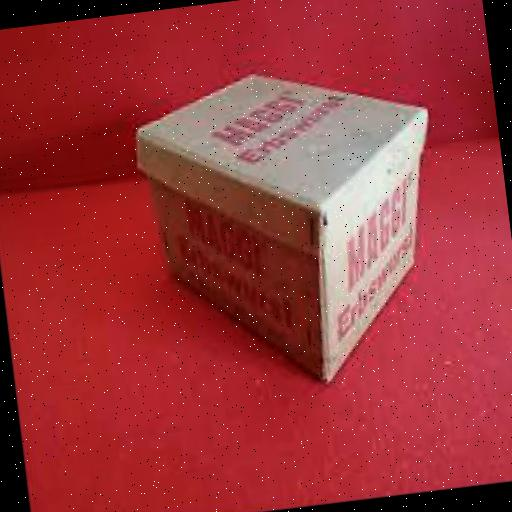cardboard: (124, 52, 456, 406)
